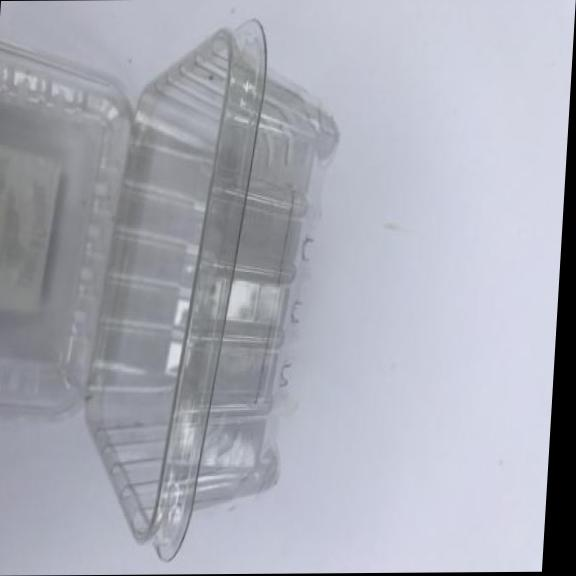Plastik: (69, 23, 349, 565), (0, 38, 132, 461)
